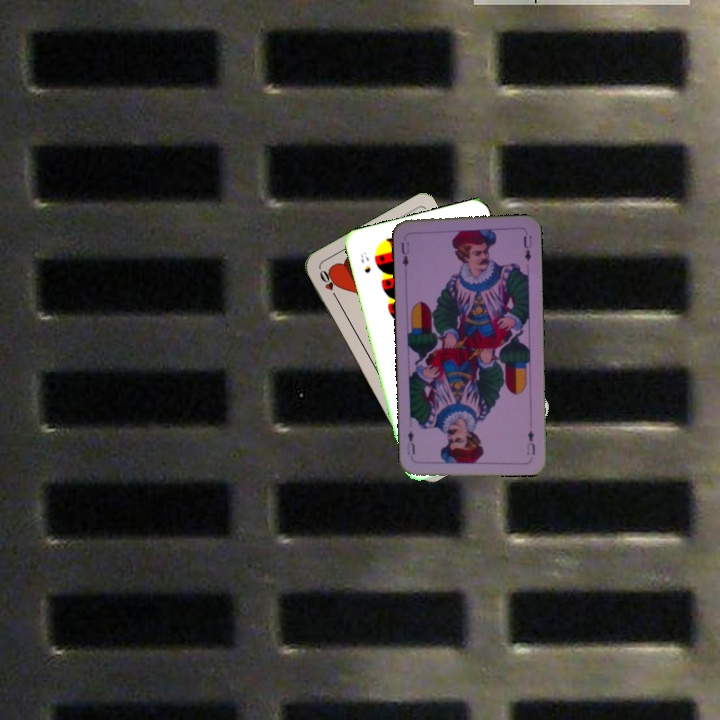EU: (397, 238, 412, 269), (523, 426, 538, 457)
HO: (315, 266, 341, 302)
S8: (357, 248, 373, 276)
